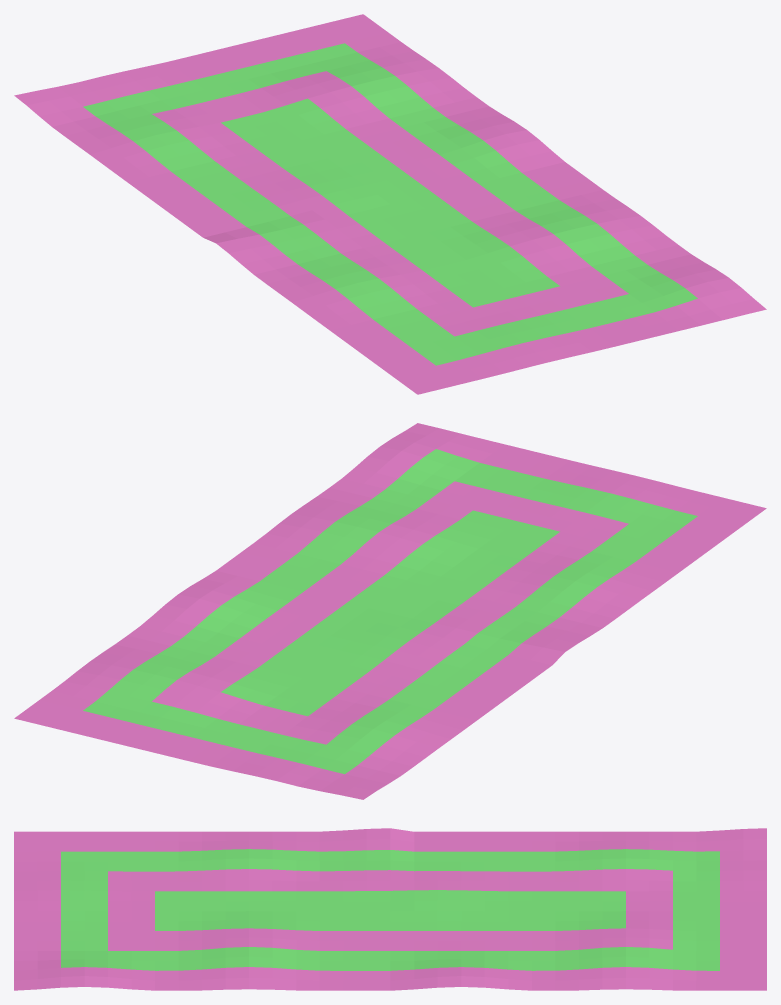
File: rugLong.fbx
3 views of the same model, one above another, from view 1: azimuth 30°, elevation 25°; view 2: azimuth 150°, elevation 25°; view 3: azimuth 270°, elevation 25° (orthographic). The views are drawn at different scales.
Parts seen in each view (by area): view 1: Plane; view 2: Plane; view 3: Plane.
Boxes of the visible parts, x1,y1,x2,y2 form: Plane: (14, 14, 766, 394); Plane: (14, 423, 766, 799); Plane: (14, 828, 766, 990).
Bounding box in the file's own units: 200 × 2.86 × 400.
